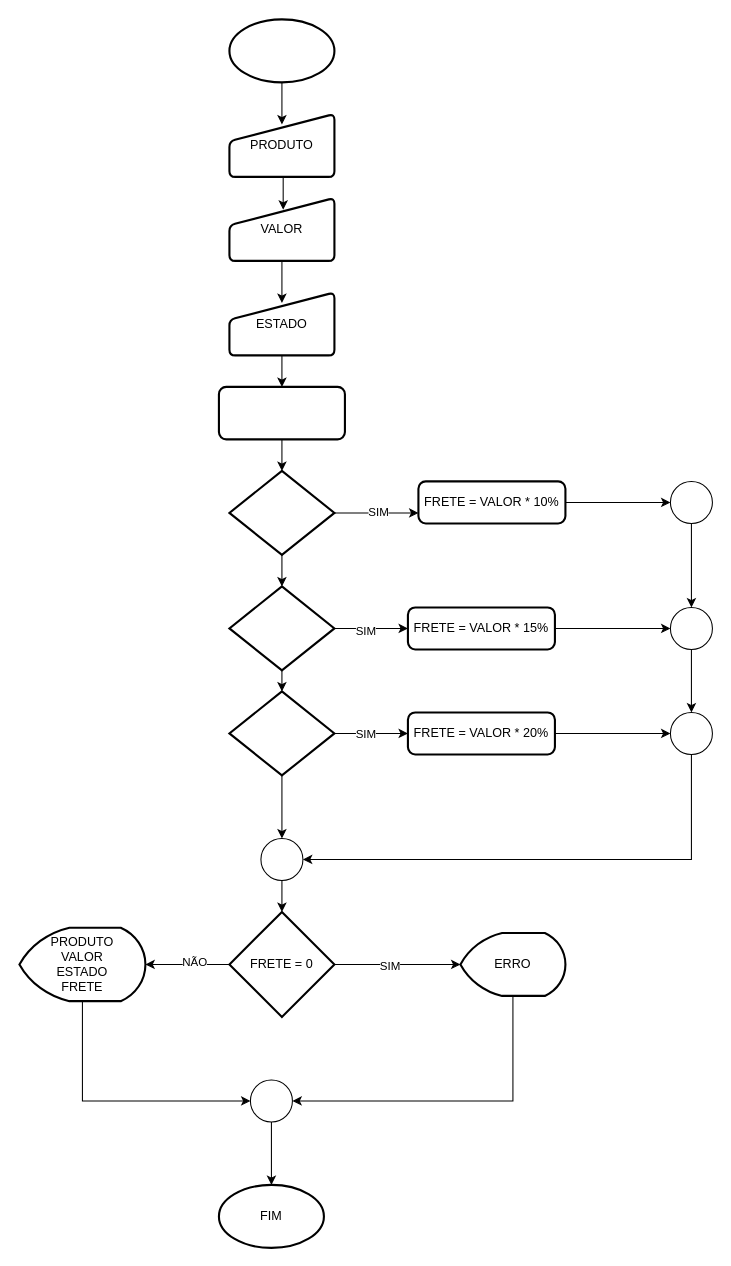
Image size: 731x1266. Some labels were removed from this diagram. Each missing label, with the box of its shape:
ESTADO = MG: (228, 585, 335, 671)
ESTADO = RJ: (228, 690, 335, 776)
ESTADO = SP: (228, 469, 335, 555)
INICIO: (228, 18, 335, 83)
MOVE 0 FRETE: (217, 385, 345, 440)
